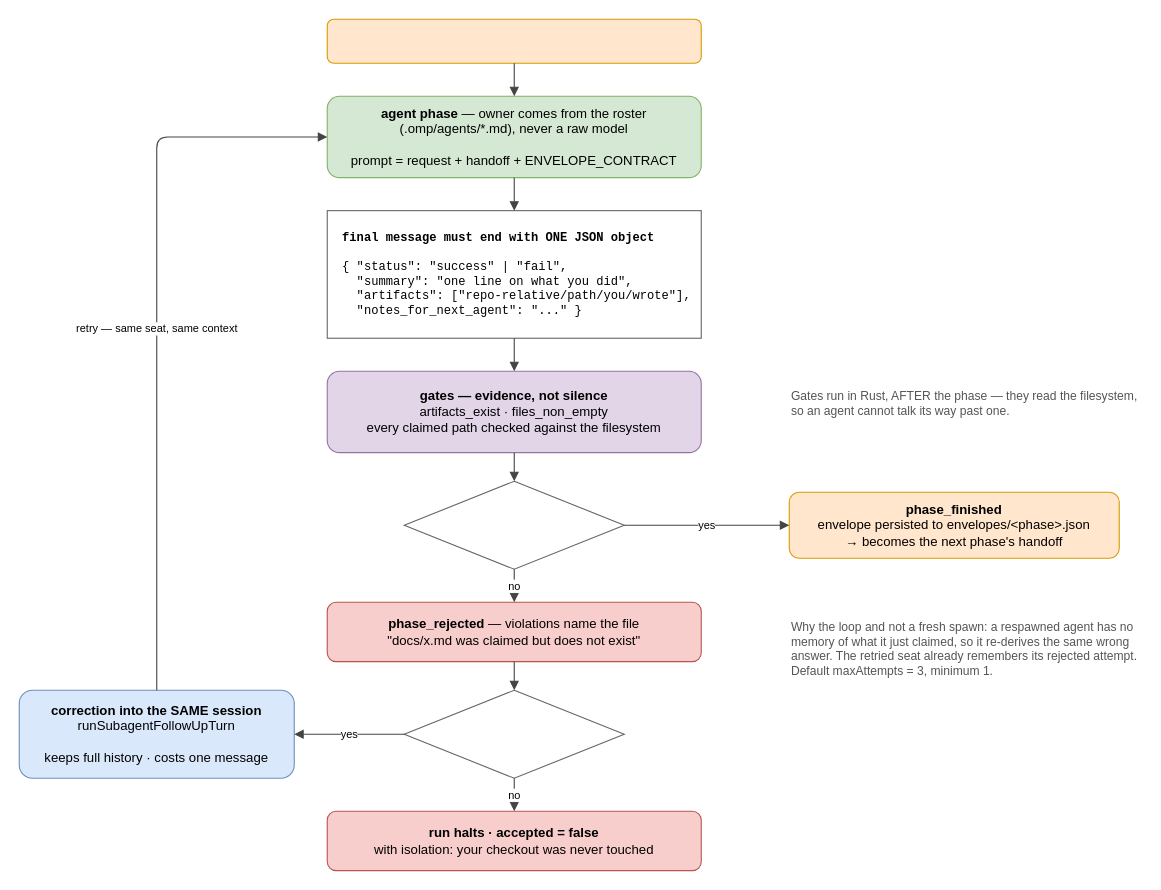
Image size: 1161x890. Some labels were removed from this diagram. The box of each missing label's shape, as (x1, y1, x2, y2) in pixels:
all gates pass?: (403, 480, 624, 569)
attempt < maxAttempts?: (403, 689, 624, 778)
phase_started · attempt N: (326, 18, 701, 63)
